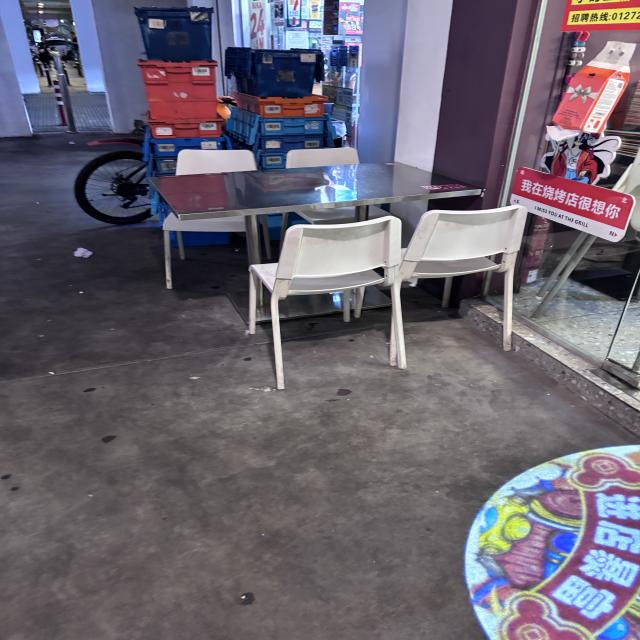Chair: (239, 206, 406, 393), (399, 200, 541, 363)
